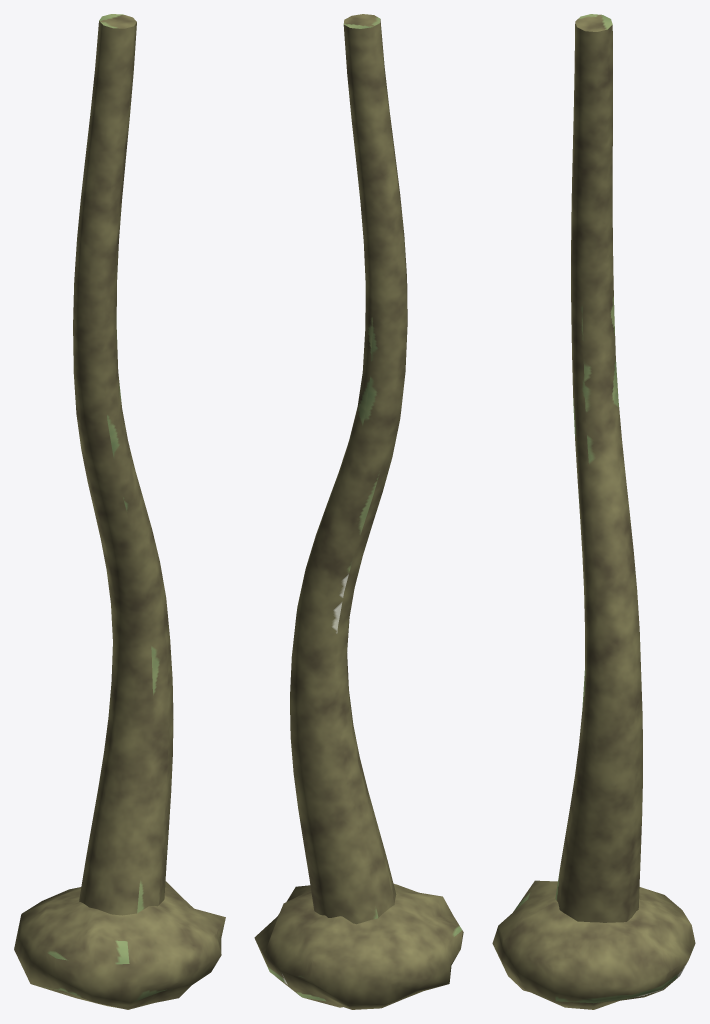
The model's file is xen_planta_tallo.obj.
3 views of the same model, side by side, from view 1: azimuth 30°, elevation 25°; view 2: azimuth 150°, elevation 25°; view 3: azimuth 270°, elevation 25° (orthographic).
Visible parts, largest first — view 1: xen_planta_tallo; view 2: xen_planta_tallo; view 3: xen_planta_tallo.
Boxes of the visible parts, bbox=[...] form: xen_planta_tallo: bbox=[14, 14, 225, 1009]; xen_planta_tallo: bbox=[254, 14, 463, 1009]; xen_planta_tallo: bbox=[492, 14, 695, 1009].
Bounding box in the file's own units: 0.32 × 1.69 × 0.32.
